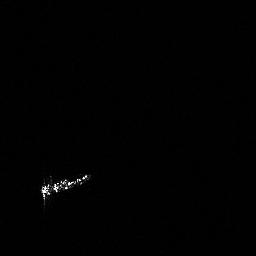ship: (36, 169, 94, 205)
